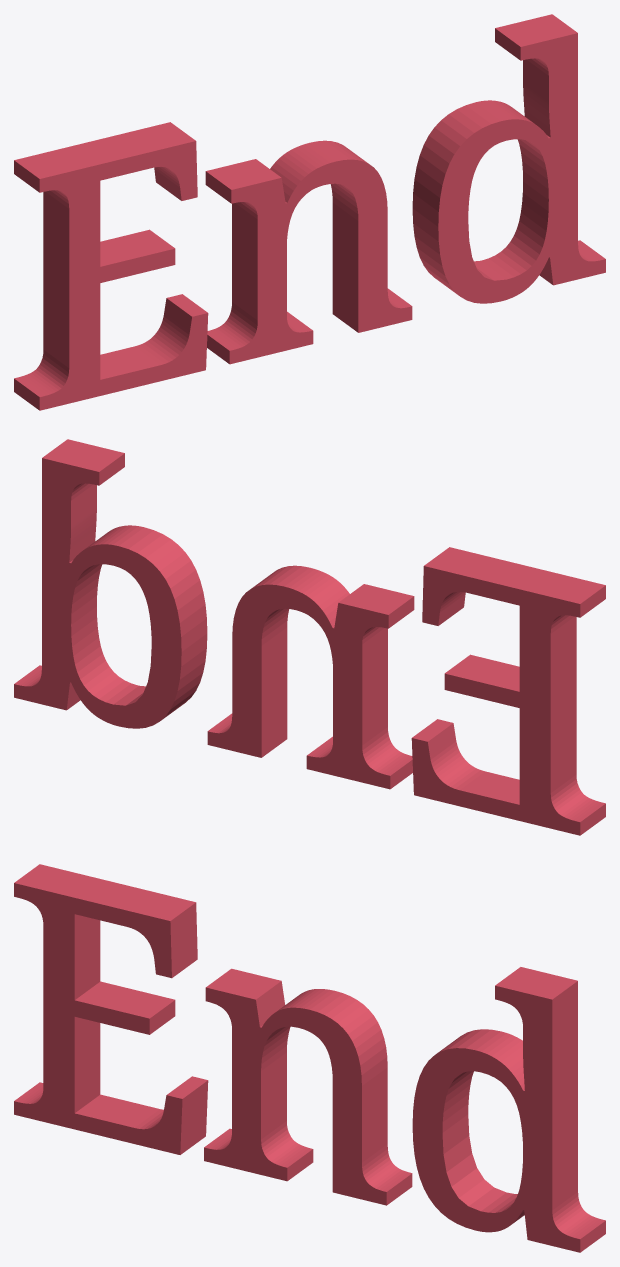
Rendered from End.fbx.
3 views of the same model, one above another, from view 1: azimuth 30°, elevation 25°; view 2: azimuth 150°, elevation 25°; view 3: azimuth 330°, elevation 25° (orthographic).
Visible parts, largest first — view 1: tinker2:group_0_15277357; view 2: tinker2:group_0_15277357; view 3: tinker2:group_0_15277357.
Boxes of the visible parts, <box> form: tinker2:group_0_15277357: <box>14,14,605,410</box>; tinker2:group_0_15277357: <box>14,439,605,835</box>; tinker2:group_0_15277357: <box>14,864,605,1252</box>.
Size of the model in its own units: 50.74 by 21.38 by 4.
